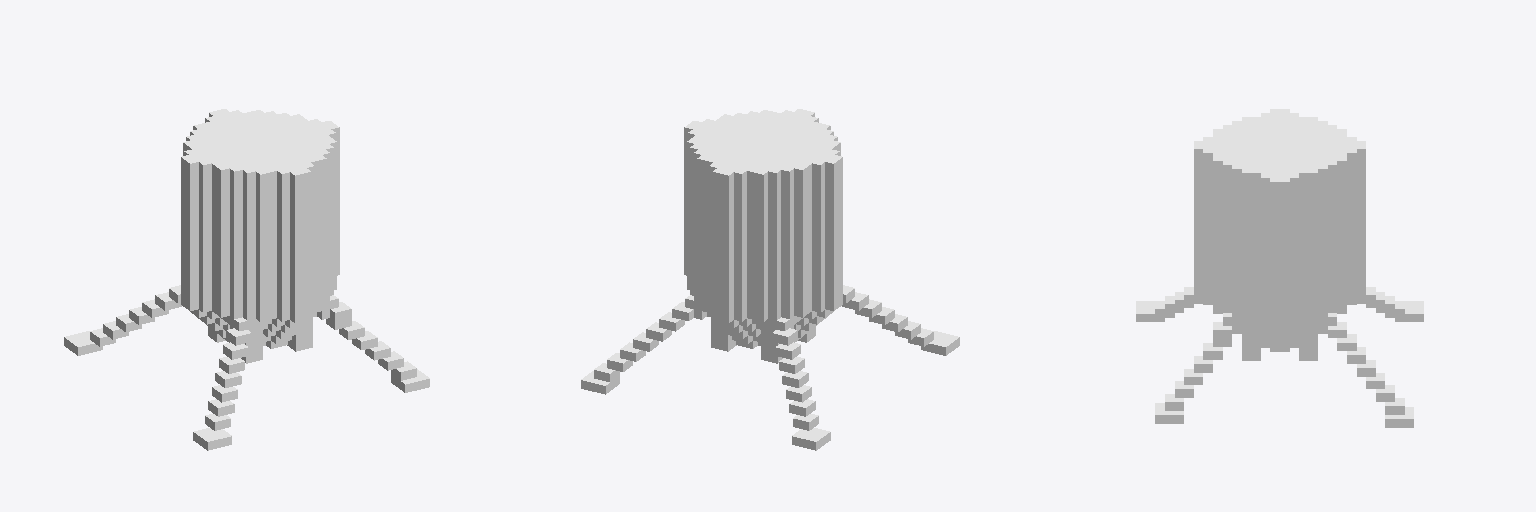
File: landerp.obj
3 views of the same model, side by side, from view 1: azimuth 30°, elevation 25°; view 2: azimuth 150°, elevation 25°; view 3: azimuth 270°, elevation 25° (orthographic).
Visible parts, largest first — view 1: object 1; view 2: object 1; view 3: object 1.
Boxes of the visible parts, x1,y1,x2,y2 form: object 1: [64, 109, 429, 450]; object 1: [581, 109, 959, 450]; object 1: [1136, 109, 1423, 427].
Bounding box in the file's own units: 2.9 × 2.6 × 3.